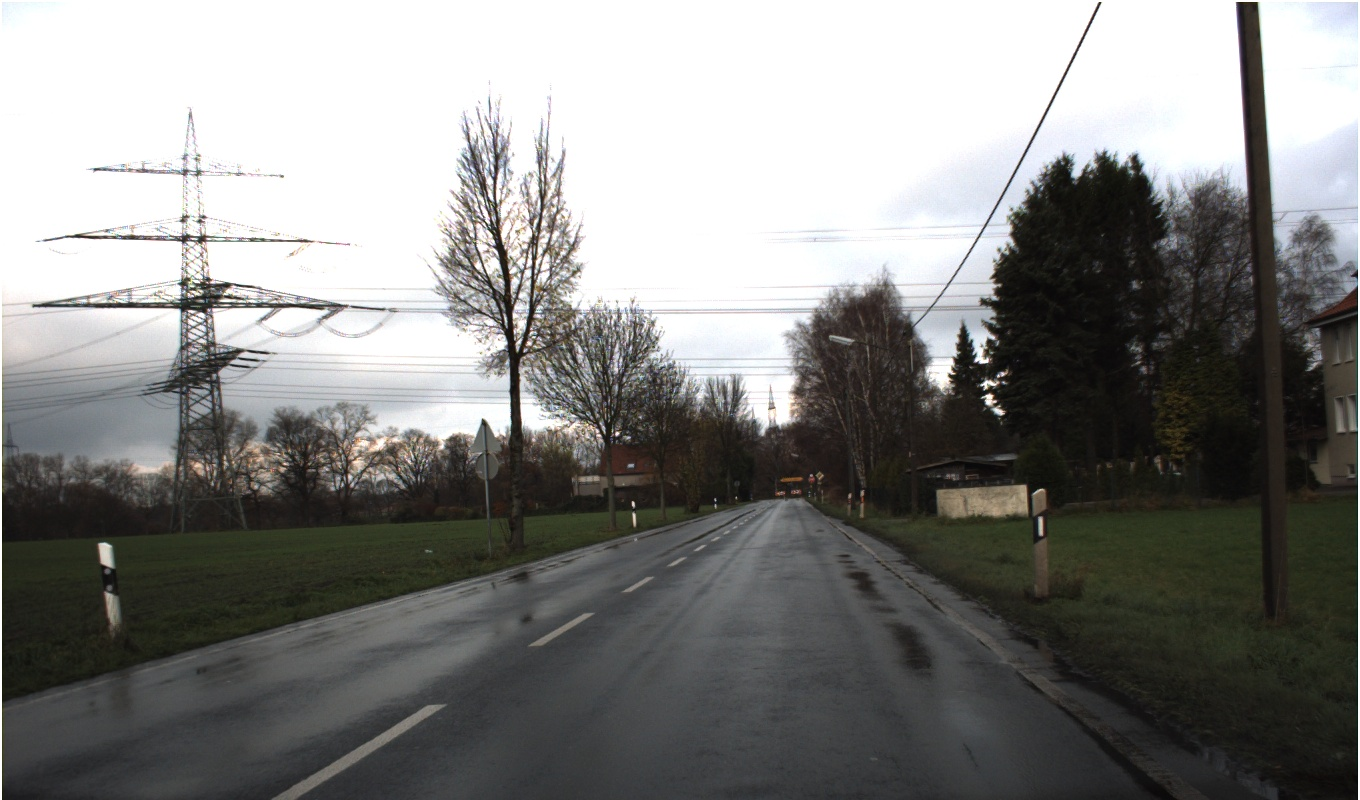General caution: (1105, 42, 1232, 153)
